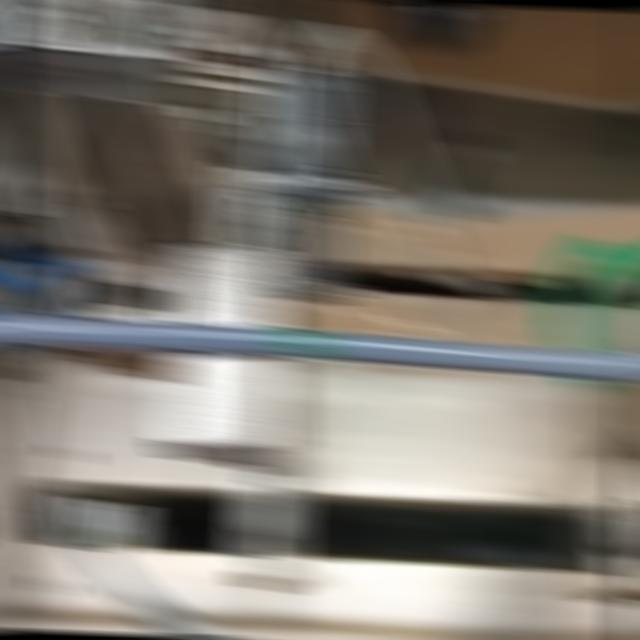green: (276, 327, 330, 360)
